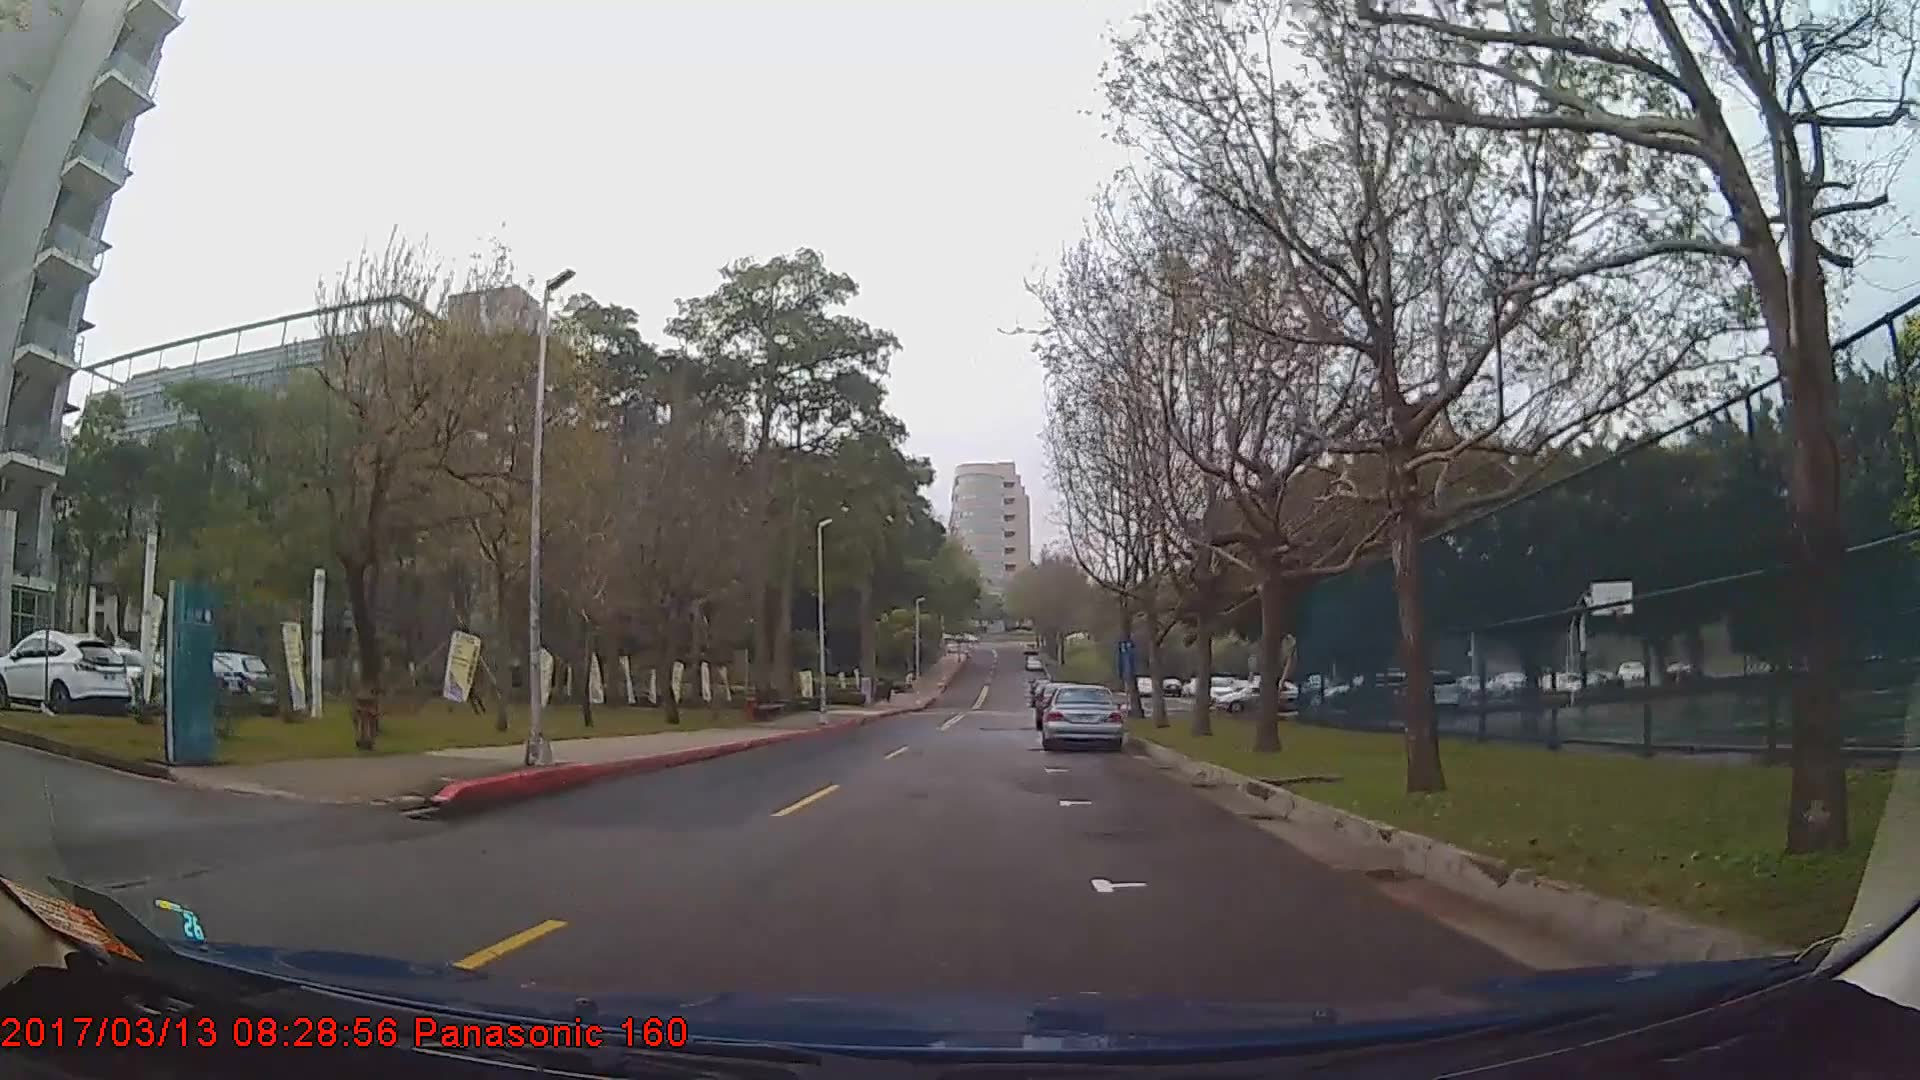vehicle: (0, 628, 128, 715), (54, 644, 175, 712), (1040, 684, 1124, 753), (210, 650, 280, 716)
